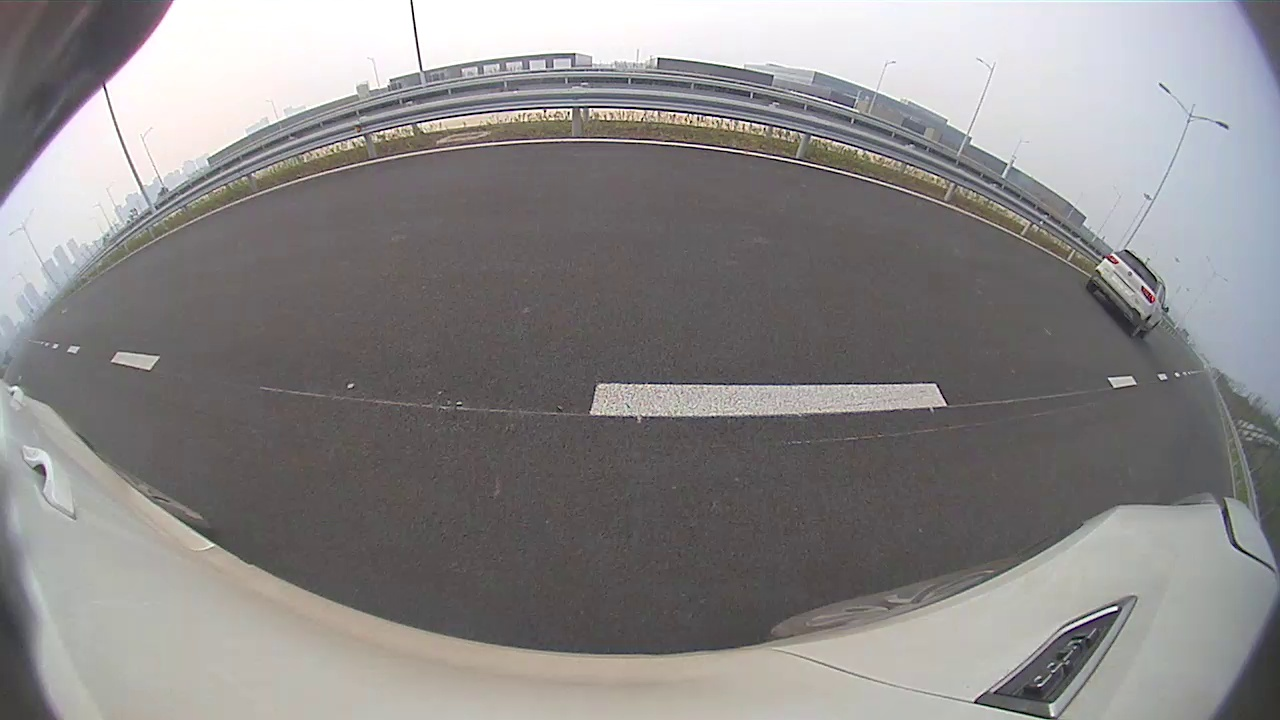car: (766, 140, 913, 228)
front: (766, 177, 781, 206)
rear: (813, 184, 837, 222)
